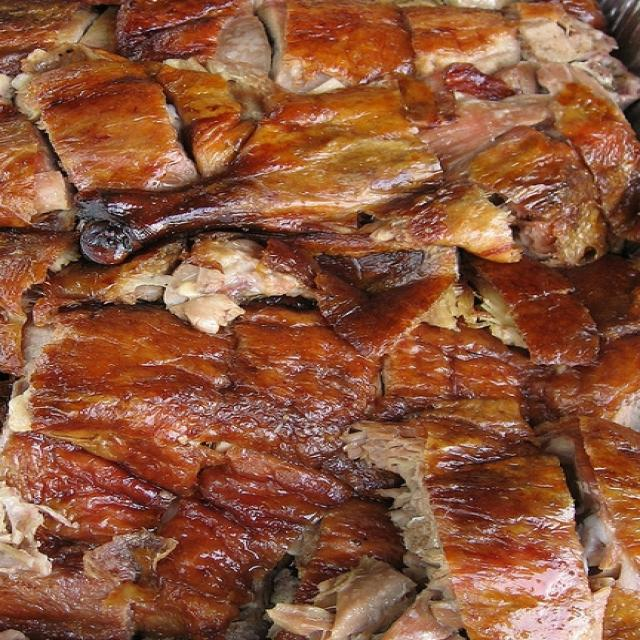烧串烤肉: (15, 18, 625, 629)
